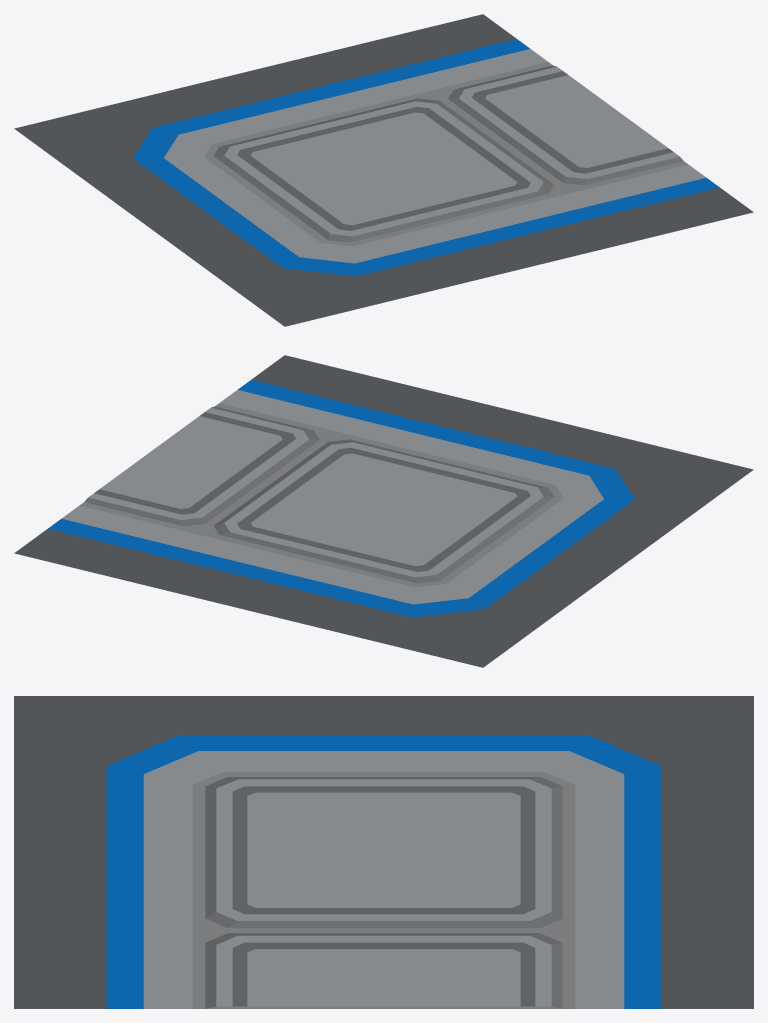
Rendered from Floor_type_B_027.fbx.
The picture shows the model from 3 angles, top to bottom: view 1: azimuth 30°, elevation 25°; view 2: azimuth 150°, elevation 25°; view 3: azimuth 270°, elevation 25°; orthographic projection. The views are drawn at different scales.
Visible parts, largest first — view 1: Floor_type_B_027; view 2: Floor_type_B_027; view 3: Floor_type_B_027.
Part boxes in pixels (x1,y1,x2,y2): Floor_type_B_027: [14, 14, 753, 326]; Floor_type_B_027: [14, 355, 753, 667]; Floor_type_B_027: [14, 696, 753, 1008].
Bounding box in the file's own units: 400 × 400 × 1.34.
